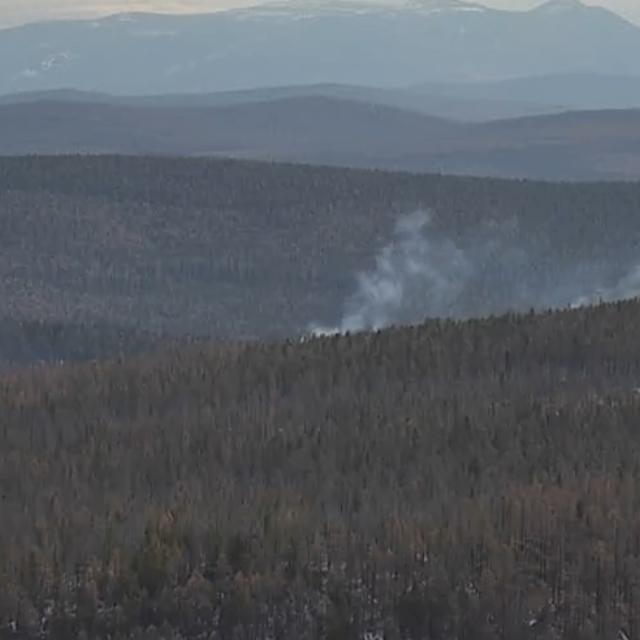Smoke: (294, 210, 480, 344), (546, 240, 639, 310)
